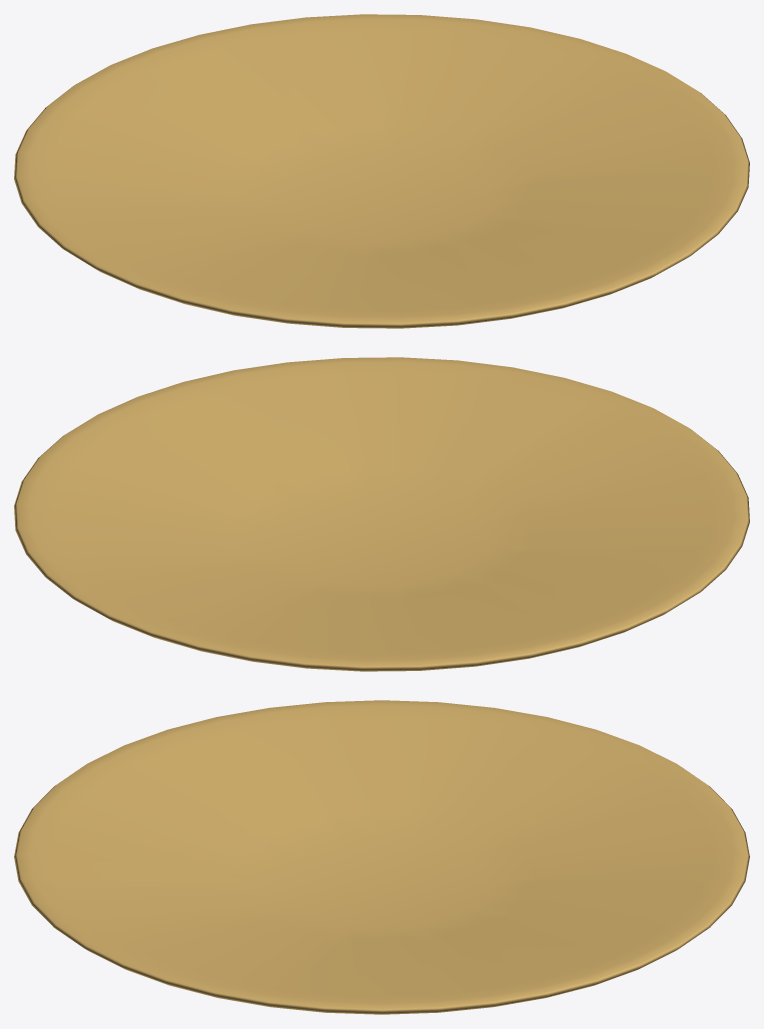
Rendered from DinnerPlate_70s_v1.fbx.
3 renders of one model, top to bottom at view 1: azimuth 30°, elevation 25°; view 2: azimuth 150°, elevation 25°; view 3: azimuth 270°, elevation 25°, orthographic.
Visible parts, largest first — view 1: P_Plate_70s_1; view 2: P_Plate_70s_1; view 3: P_Plate_70s_1.
Part boxes in pixels (x1,y1,x2,y2): P_Plate_70s_1: (14,14,749,328); P_Plate_70s_1: (14,357,749,671); P_Plate_70s_1: (14,700,749,1014).
Bounding box in the file's own units: 2.53 × 0.2188 × 2.53.
